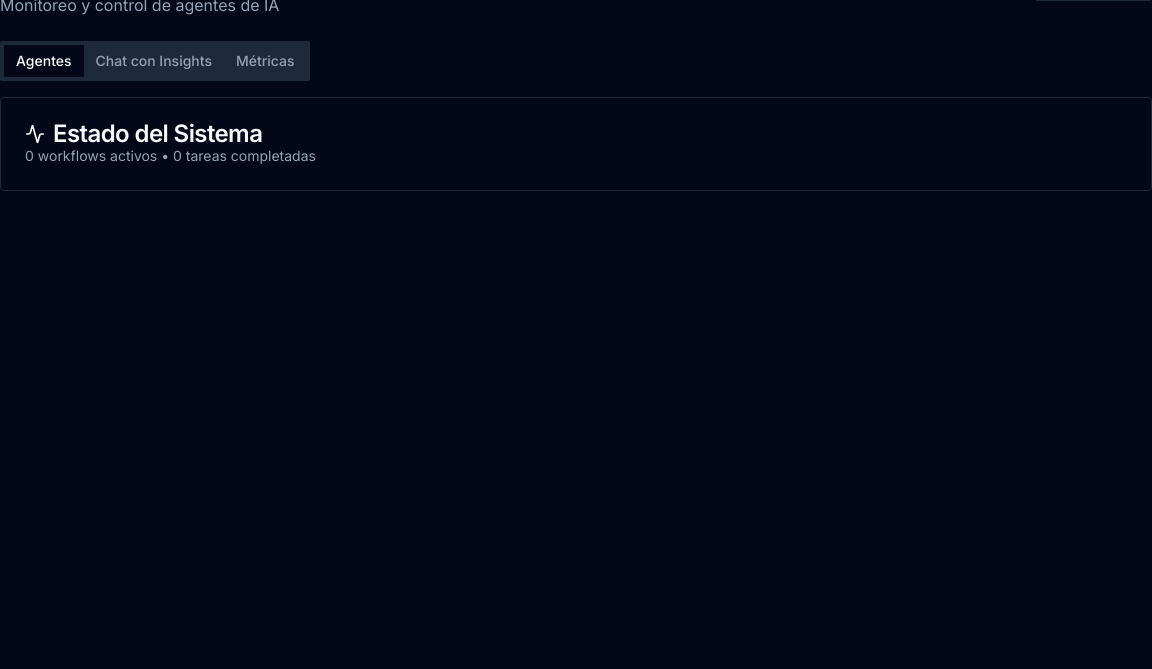
Test: la burbuja del asistente renderiza el Markdown › envía la consulta y muestra la negrita, no los asteriscos
Press the mouse on the tab "Chat con Insights" at (154, 61), box x1=84 y1=45 x2=224 y2=77
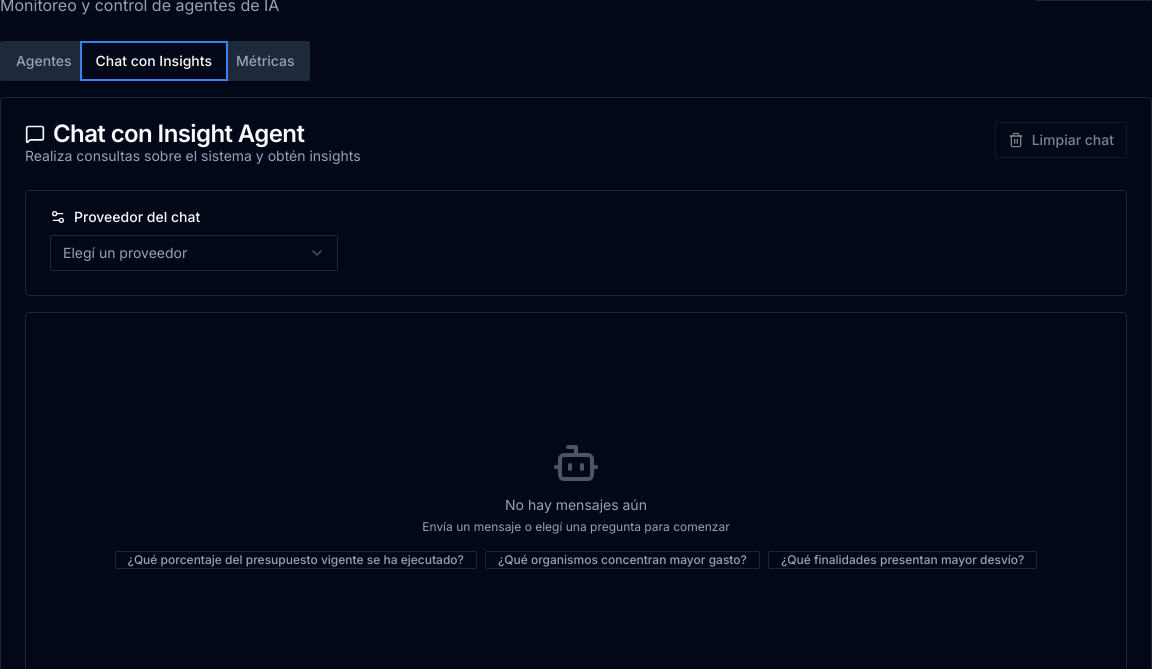
Click the tab "Chat con Insights" at (154, 61), box x1=84 y1=45 x2=224 y2=77
(page scrolled)
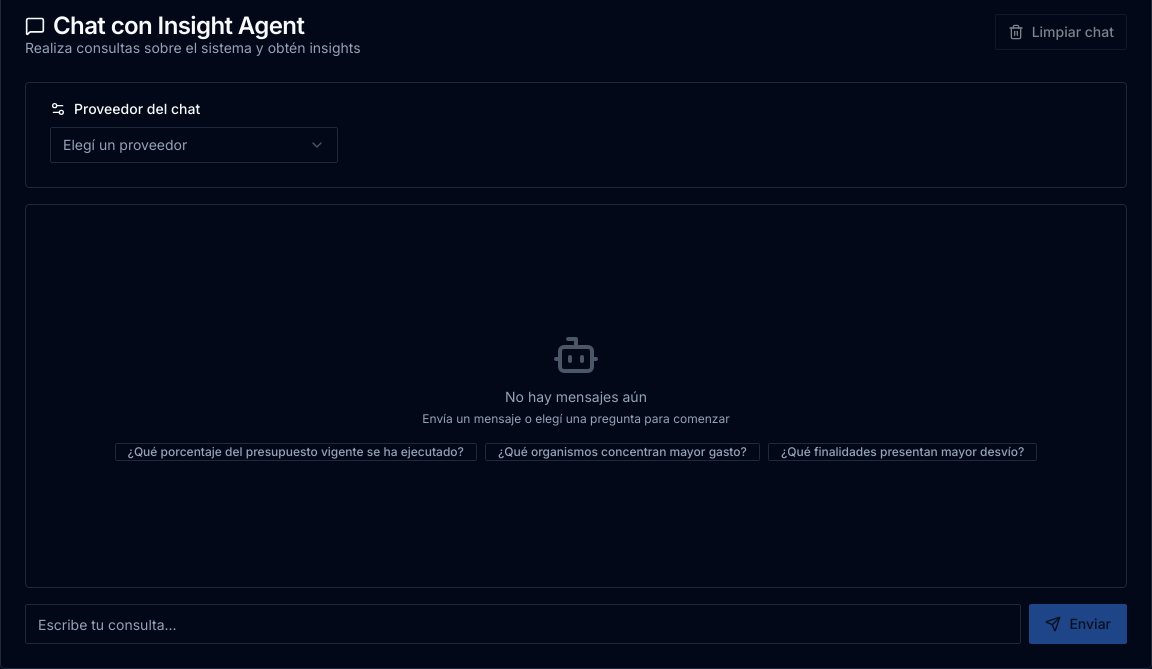
Type "¿cuánto se ejecutó?" into the field with placeholder "Escribe tu consulta..." at (523, 624), box x1=25 y1=604 x2=1021 y2=644
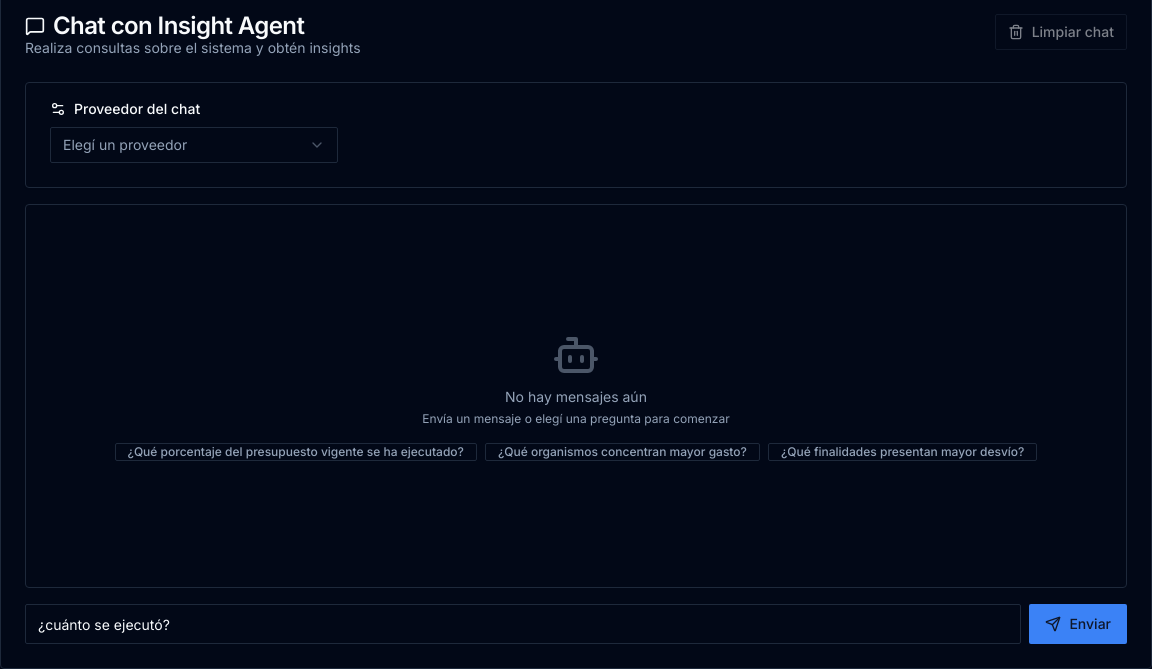
Click the button "Enviar" at (1078, 624), box x1=1029 y1=604 x2=1127 y2=644
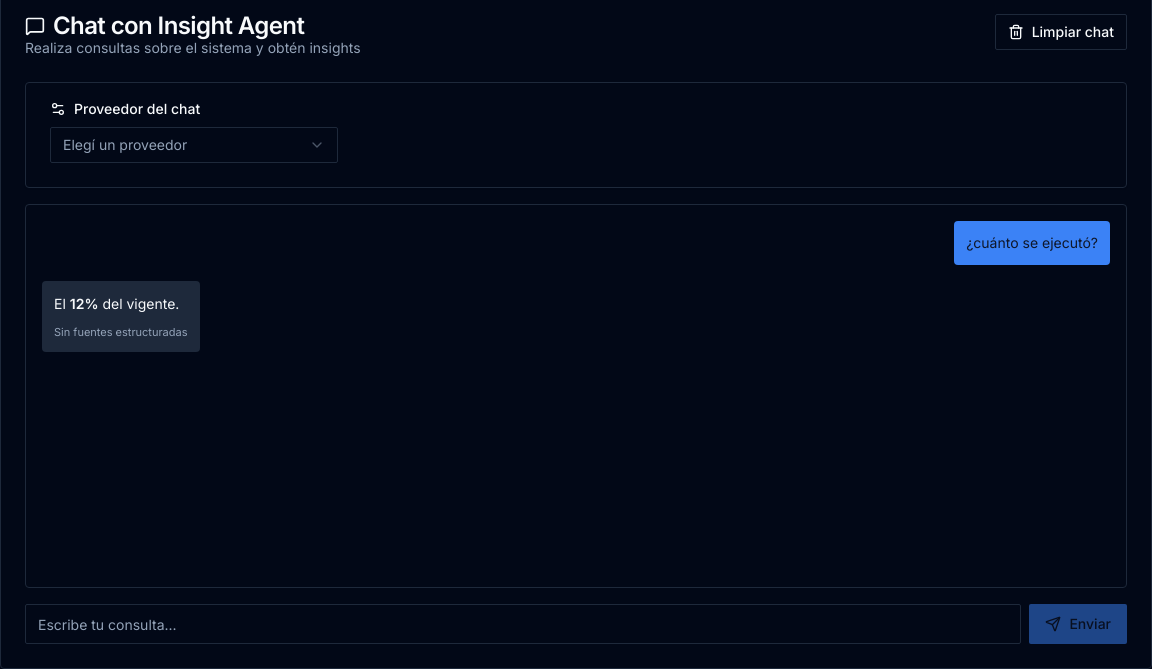
Expected: the text "12%" is shown, x1=70 y1=295 x2=98 y2=312
